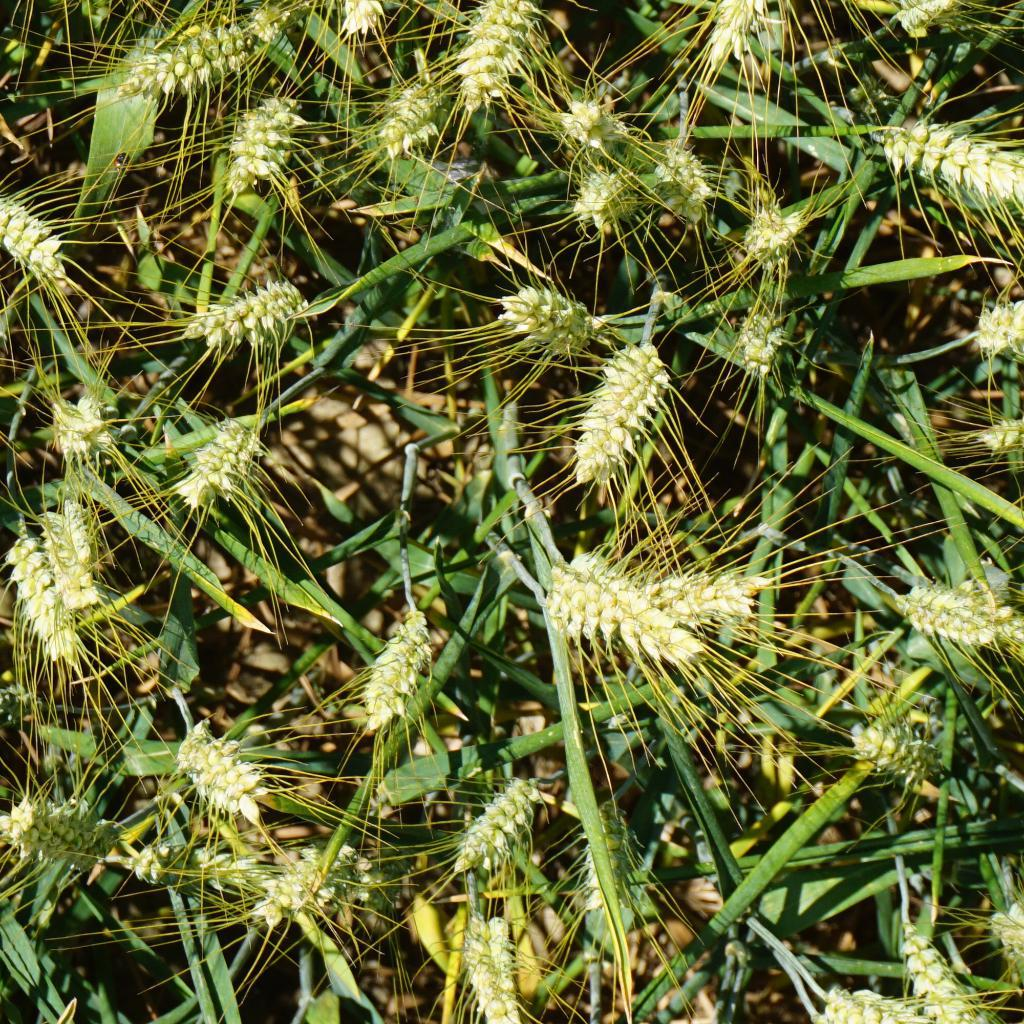0-0: (868, 111, 1024, 216), (560, 537, 692, 656), (579, 348, 668, 484), (452, 770, 557, 880), (0, 786, 118, 878), (126, 9, 248, 92), (4, 520, 76, 654), (645, 543, 763, 620), (455, 0, 540, 103), (0, 177, 76, 288), (197, 271, 301, 351), (35, 492, 106, 608), (844, 709, 943, 792), (223, 88, 305, 188), (457, 907, 527, 1024), (268, 837, 365, 921), (891, 572, 998, 647), (361, 608, 429, 723), (173, 426, 256, 519), (901, 927, 978, 1024), (184, 726, 267, 812), (131, 833, 233, 900), (579, 803, 648, 901), (374, 68, 446, 157), (496, 277, 587, 347), (550, 76, 632, 147), (956, 571, 1024, 652), (543, 563, 614, 640), (649, 137, 712, 221), (718, 0, 812, 56), (739, 192, 810, 265), (972, 281, 1024, 365), (564, 163, 628, 227), (54, 395, 115, 457), (742, 314, 795, 385), (896, 0, 996, 29), (0, 685, 60, 732), (312, 0, 392, 34), (979, 402, 1024, 459), (830, 988, 901, 1024), (1001, 899, 1024, 963)
